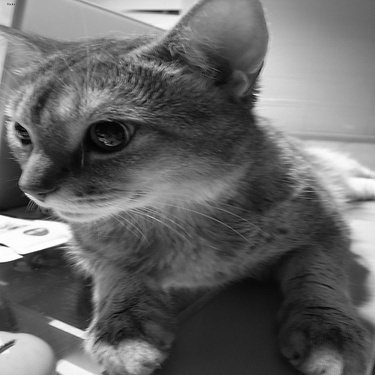cat: (1, 4, 367, 371)
